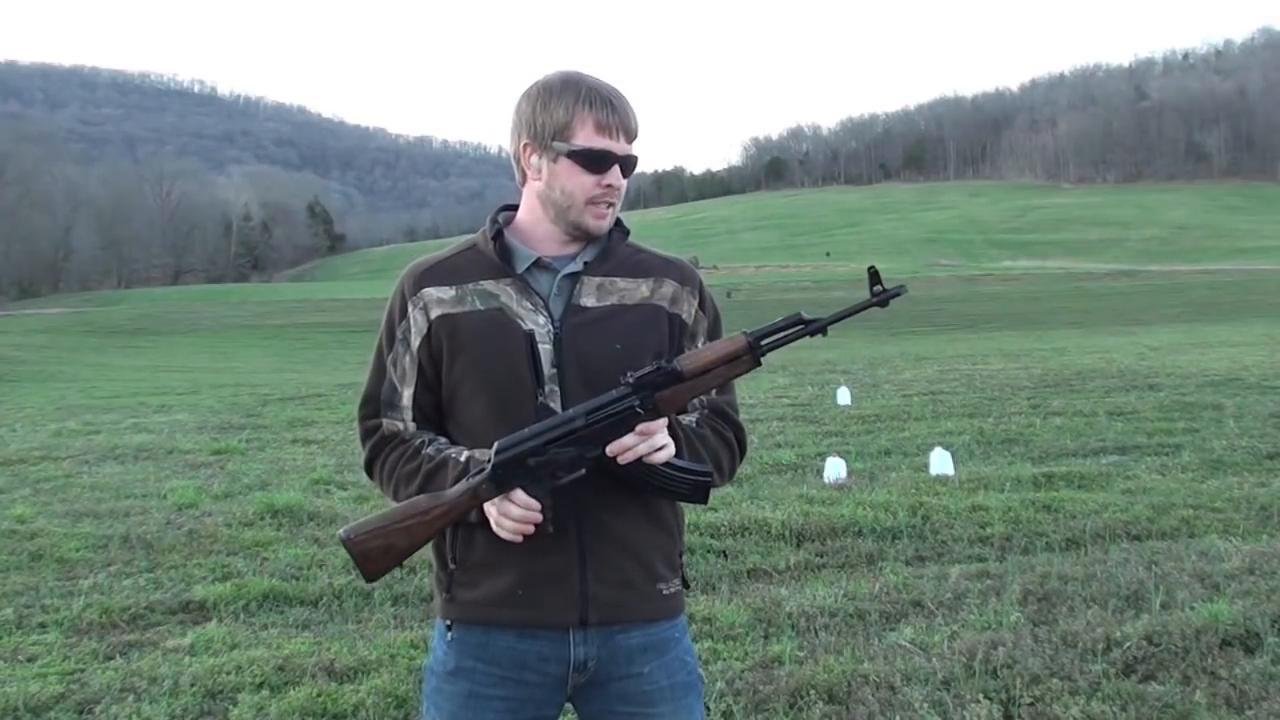AK47 Rifle: (335, 262, 911, 586)
